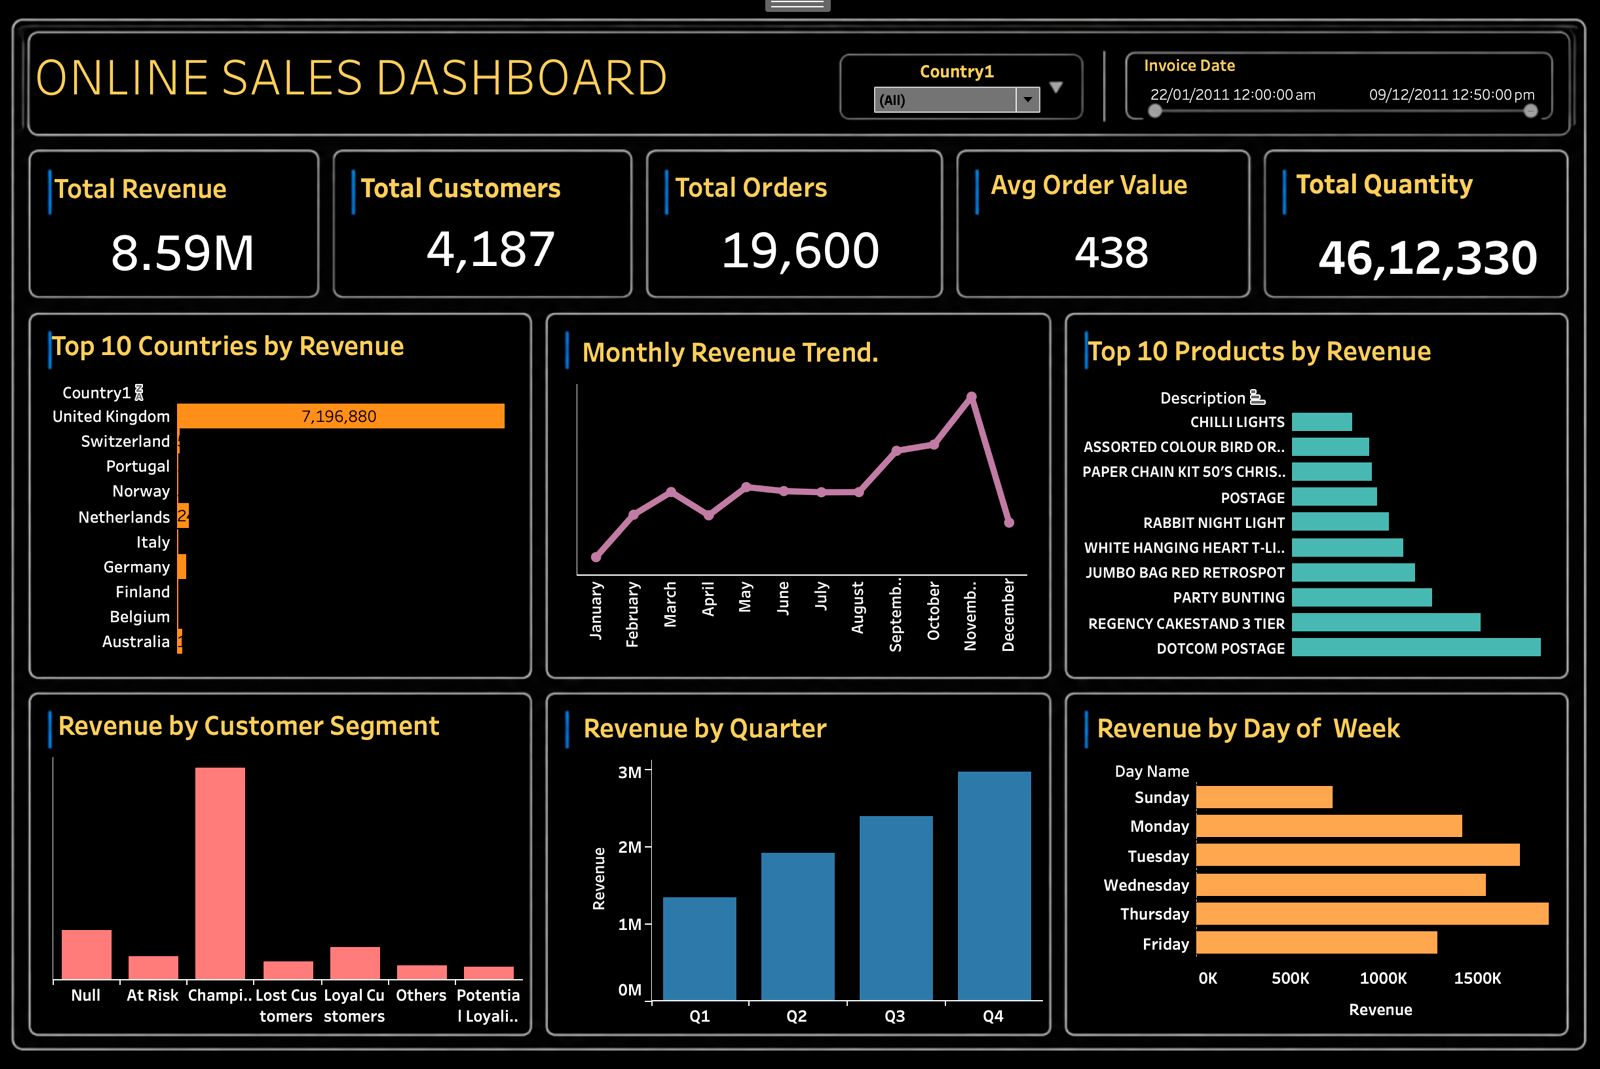

The page's visual inventory and layout, read from the dashboard file:
{"tool":"tableau","page":{"name":"Online Retail Sales Dashboard","canvas":[1000,1000],"units":"permille","ordinal":0},"visuals":[{"type":"image","param":"Image/ChatGPT Image Aug 20, 2026, 08_58_27 AM.png","box":[1.6,10.8,997.6,986.8]},{"type":"text","box":[34.1,48.1,536.9,67.4]},{"type":"filter","title":"Total Customers","param":"[federated.14zzf2u13bodeq13xhydd00yspag].[none:InvoiceDate:qk]","box":[709.3,62.6,243.1,57.8]},{"type":"filter","title":"Total Revenue","param":"[federated.14zzf2u13bodeq13xhydd00yspag].[none:Country:nk]","box":[543.3,67.4,105.6,51.7]},{"type":"worksheet","title":"Avg Order Value","mark":"Automatic","box":[613.2,160.1,154.1,115.5]},{"type":"worksheet","title":"Total Quantity Sold","mark":"Automatic","box":[798.2,160.1,167.6,126.4]},{"type":"worksheet","title":"Total Orders","mark":"Automatic","box":[421.8,162.5,160.4,107.1]},{"type":"worksheet","title":"Total Revenue","mark":"Text","box":[45.3,163.7,164.4,108.3]},{"type":"worksheet","title":"Total Customers","mark":"Automatic","box":[231.1,163.7,166,102.3]},{"type":"worksheet","title":"Top 10 Countries by Revenue","mark":"Bar","rows":["Country"],"cols":["Calculation_6846831380606976"],"box":[43.7,308.1,287.5,305.7]},{"type":"worksheet","title":"Top 10 Products by Revenue","mark":"Automatic","rows":["Description"],"cols":["Calculation_6846831380606976"],"box":[672,312.9,285.9,306.9]},{"type":"worksheet","title":"Monthly Revenue Trend.","mark":"Automatic","rows":["Calculation_6846831380606976"],"cols":["InvoiceDate"],"box":[365.4,314.1,273.2,299.6]},{"type":"worksheet","title":"Revenue by Customer Segment","mark":"Automatic","rows":["Calculation_6846831380606976"],"cols":["Segment"],"box":[47.7,657,285.2,299.6]},{"type":"worksheet","title":"Revenue by Quarter","mark":"Bar","rows":["Calculation_6846831380606976"],"cols":["InvoiceDate"],"box":[366.2,659.5,282,298.4]},{"type":"worksheet","title":"Revenue by Day of  Week","mark":"Automatic","rows":["Calculation_3711643813994497"],"cols":["Calculation_6846831380606976"],"box":[677.5,659.5,287.5,299.6]}]}

Visuals, with their boxes on the dashboard's canvas, which has no fixed pixel size, in thousandths of its width and height (x1, y1, x2, y2). These are canvas units, not pixel positions in the 1600x1069 screenshot, which may show the page scaled, cropped or inside an application window:
image: 2, 11, 999, 998
text: 34, 48, 571, 116
"Total Customers" filter: 709, 63, 952, 120
"Total Revenue" filter: 543, 67, 649, 119
"Avg Order Value" worksheet: 613, 160, 767, 276
"Total Quantity Sold" worksheet: 798, 160, 966, 286
"Total Orders" worksheet: 422, 162, 582, 270
"Total Revenue" worksheet (Text marks): 45, 164, 210, 272
"Total Customers" worksheet: 231, 164, 397, 266
"Top 10 Countries by Revenue" worksheet (Bar marks): 44, 308, 331, 614
"Top 10 Products by Revenue" worksheet: 672, 313, 958, 620
"Monthly Revenue Trend." worksheet: 365, 314, 639, 614
"Revenue by Customer Segment" worksheet: 48, 657, 333, 957
"Revenue by Quarter" worksheet (Bar marks): 366, 660, 648, 958
"Revenue by Day of  Week" worksheet: 678, 660, 965, 959
